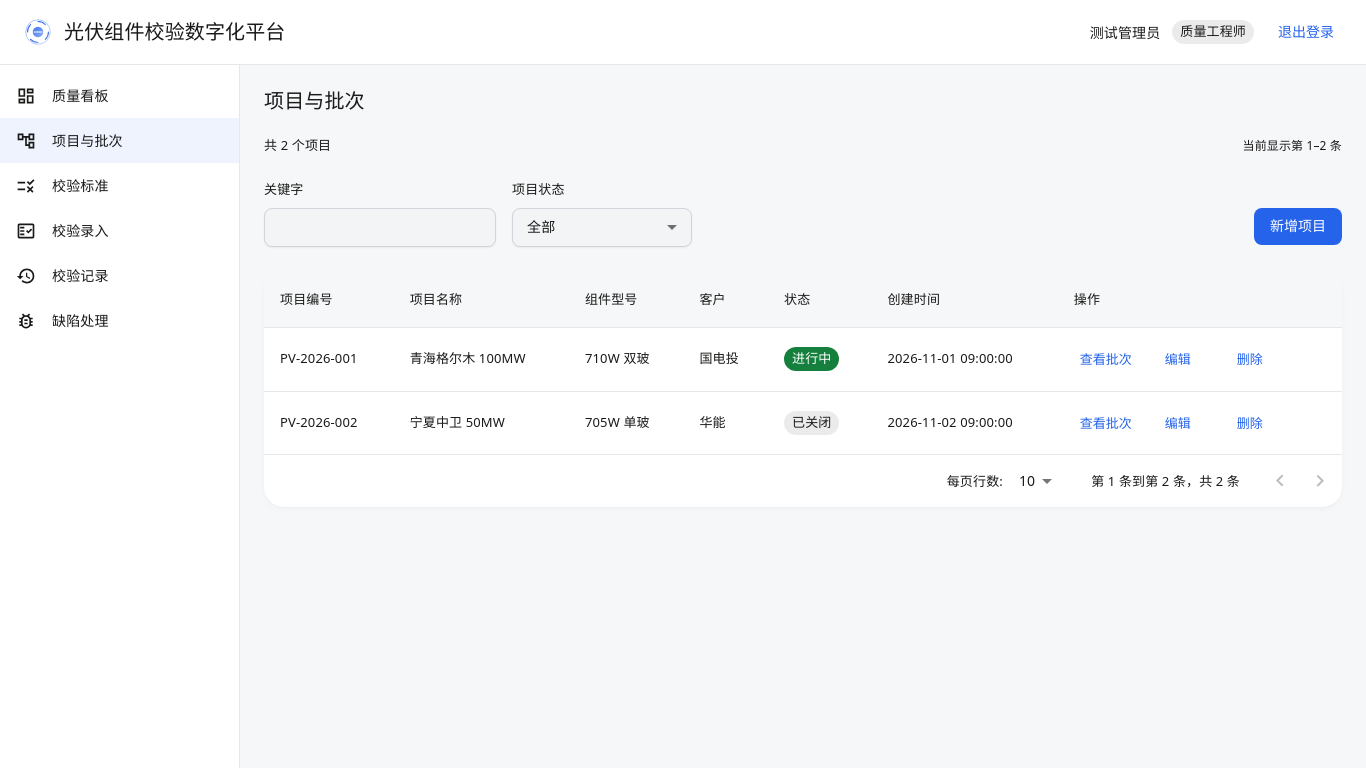
Test: 删除项目需二次确认
Later steps or results of the test are not shown.
Click the button with aria-label "删除项目 PV-2026-002": (1250, 423) [1218,408,1282,438]
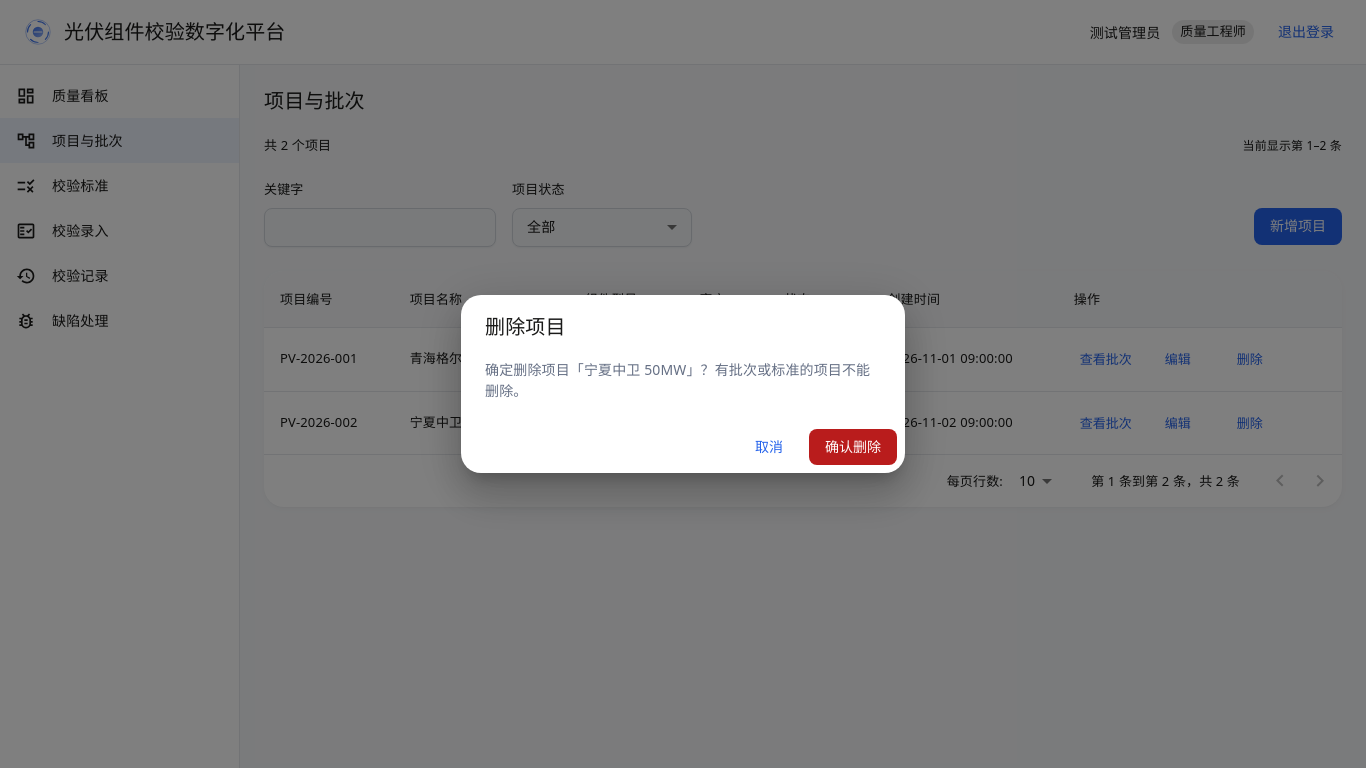
Now the heading "删除项目" is shown, box [485,313,566,340]
